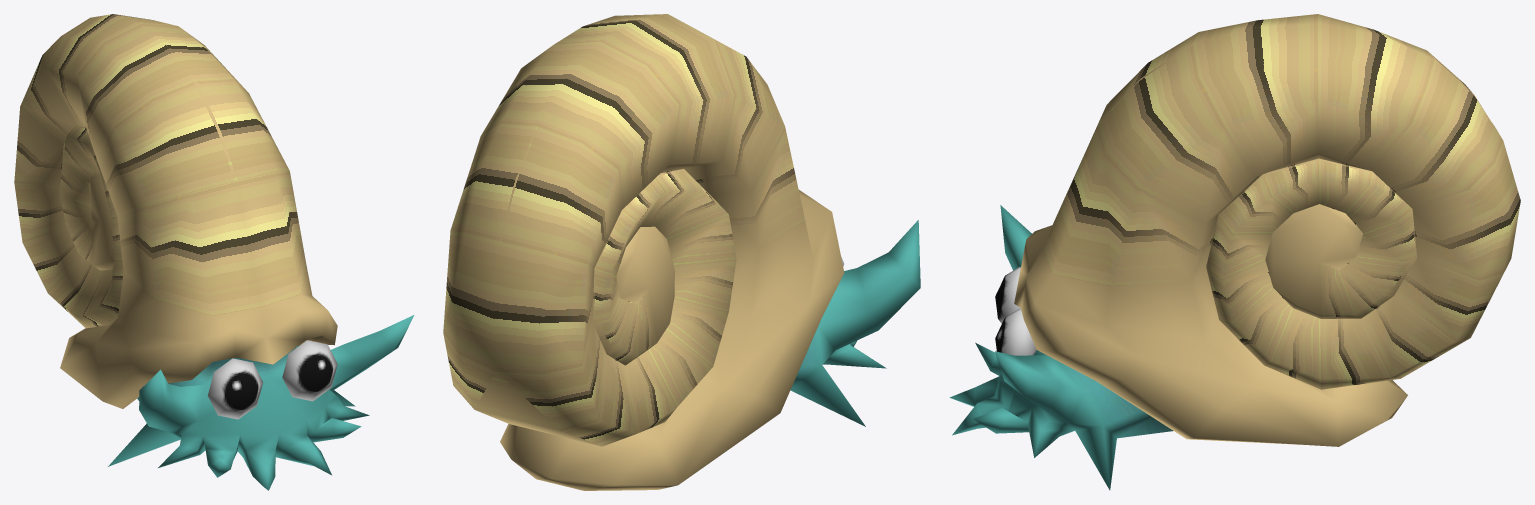
File: omanyte.gltf
The picture shows the model from 3 angles, left to right: view 1: azimuth 30°, elevation 25°; view 2: azimuth 150°, elevation 25°; view 3: azimuth 270°, elevation 25°; orthographic projection. The views are drawn at different scales.
Parts seen in each view (by area): view 1: omnite; view 2: omnite; view 3: omnite.
Boxes of the visible parts, <box> form: omnite: <box>14,14,414,490</box>; omnite: <box>443,14,920,490</box>; omnite: <box>949,14,1520,490</box>.
Bounding box in the file's own units: 3.02 × 3.82 × 4.94.
6 materials, 6 textured.
